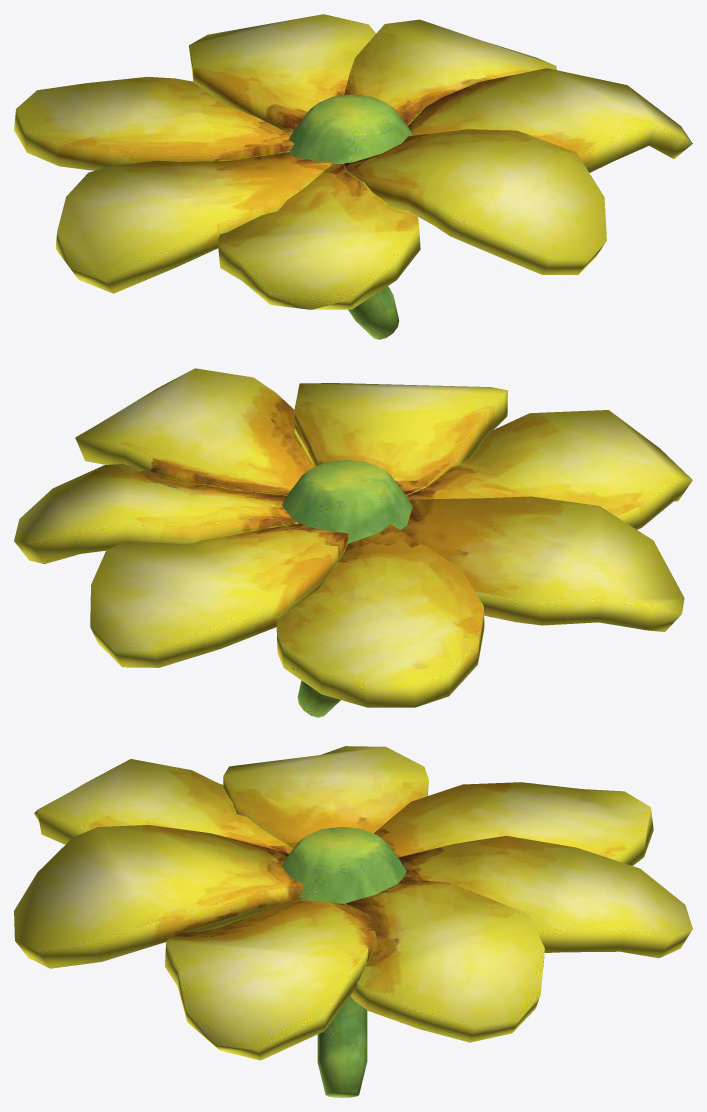
File: flower.glb
3 renders of one model, top to bottom at view 1: azimuth 30°, elevation 25°; view 2: azimuth 150°, elevation 25°; view 3: azimuth 270°, elevation 25°, orthographic. The views are drawn at different scales.
Parts seen in each view (by area): view 1: Flor; view 2: Flor; view 3: Flor.
Boxes of the visible parts, x1=… form: Flor: x1=14, y1=14, x2=692, y2=339; Flor: x1=14, y1=368, x2=692, y2=717; Flor: x1=14, y1=746, x2=692, y2=1097.
Bounding box in the file's own units: 0.3013 × 0.114 × 0.288.
1 material, 1 textured.
